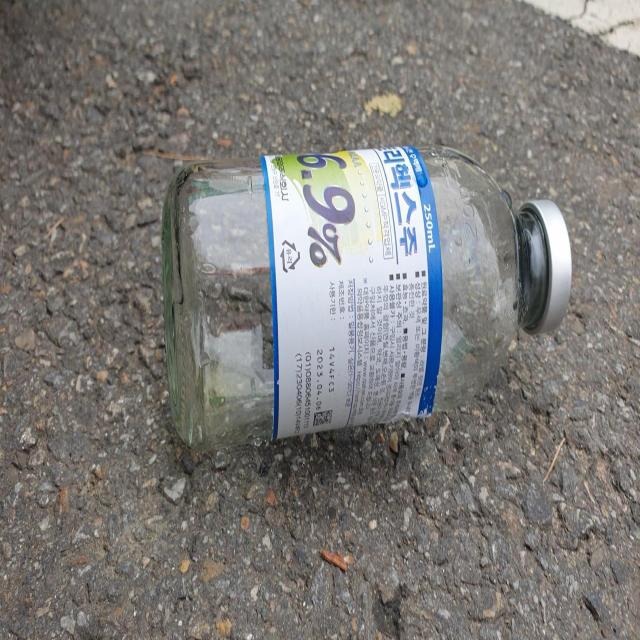glass: (162, 145, 573, 450)
